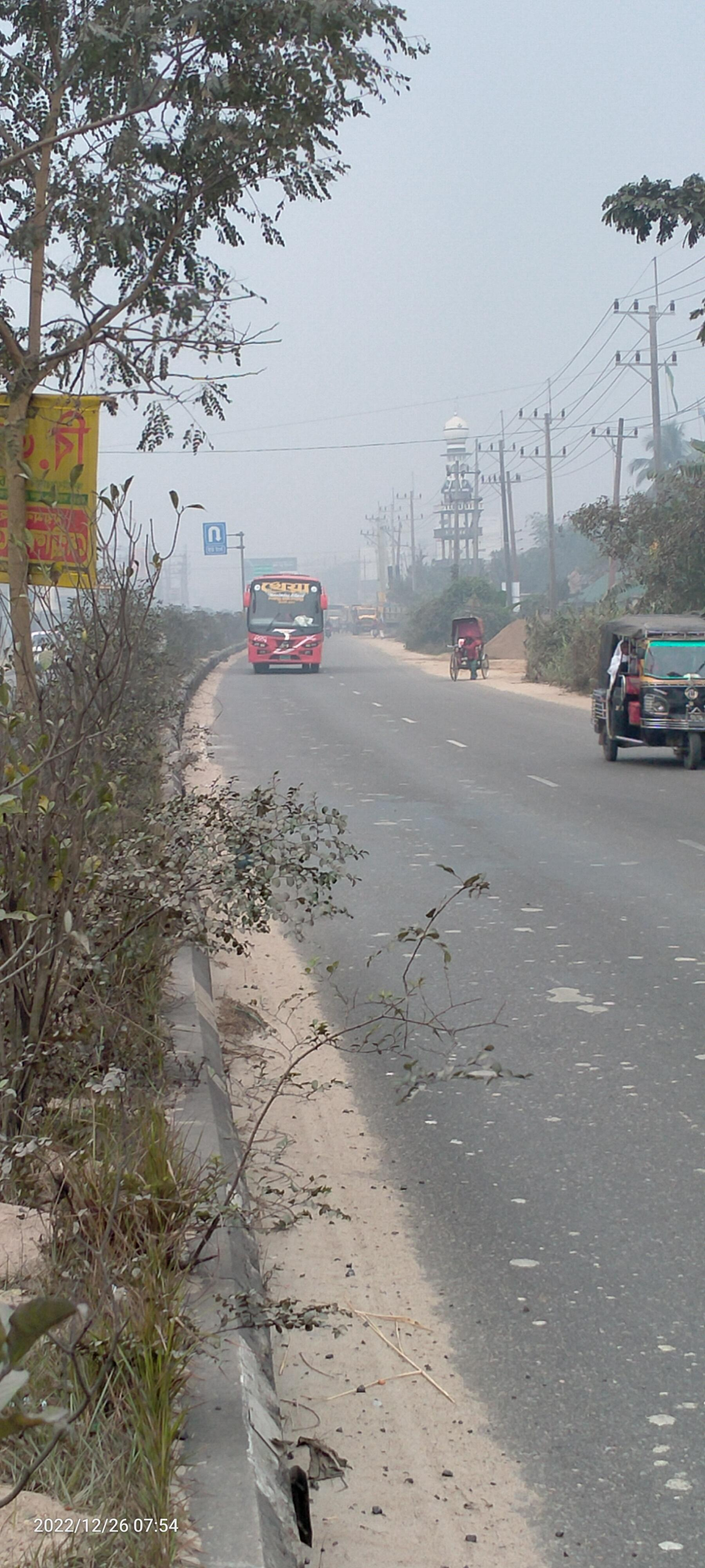Bus: (238, 563, 334, 681)
Car: (442, 613, 497, 685)
